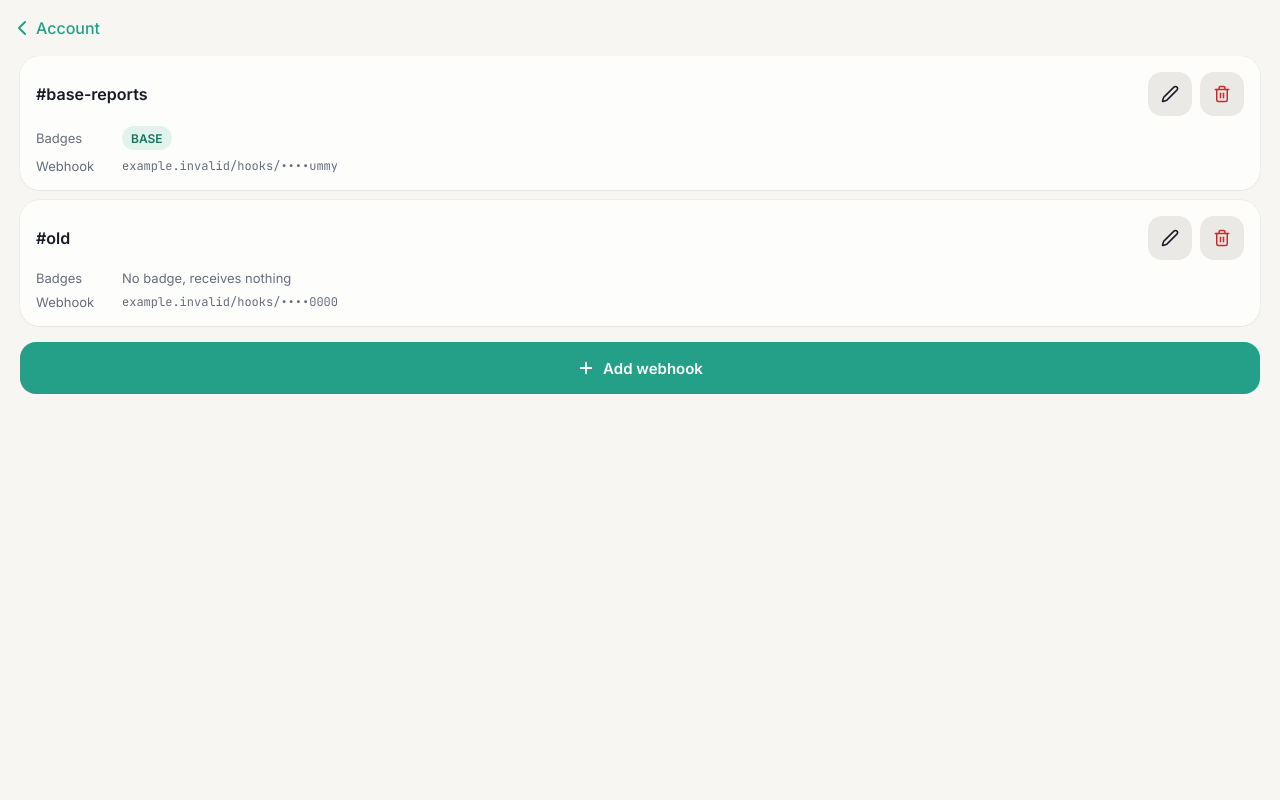
Test: the webhook sheet below md › adds with the address, BASE and a label, then shows only the masked address
Expected: the text "#base-reports" is shown, [36,84,148,104]
Click the button "Add webhook".
click(640, 368)  # box [20,342,1260,394]
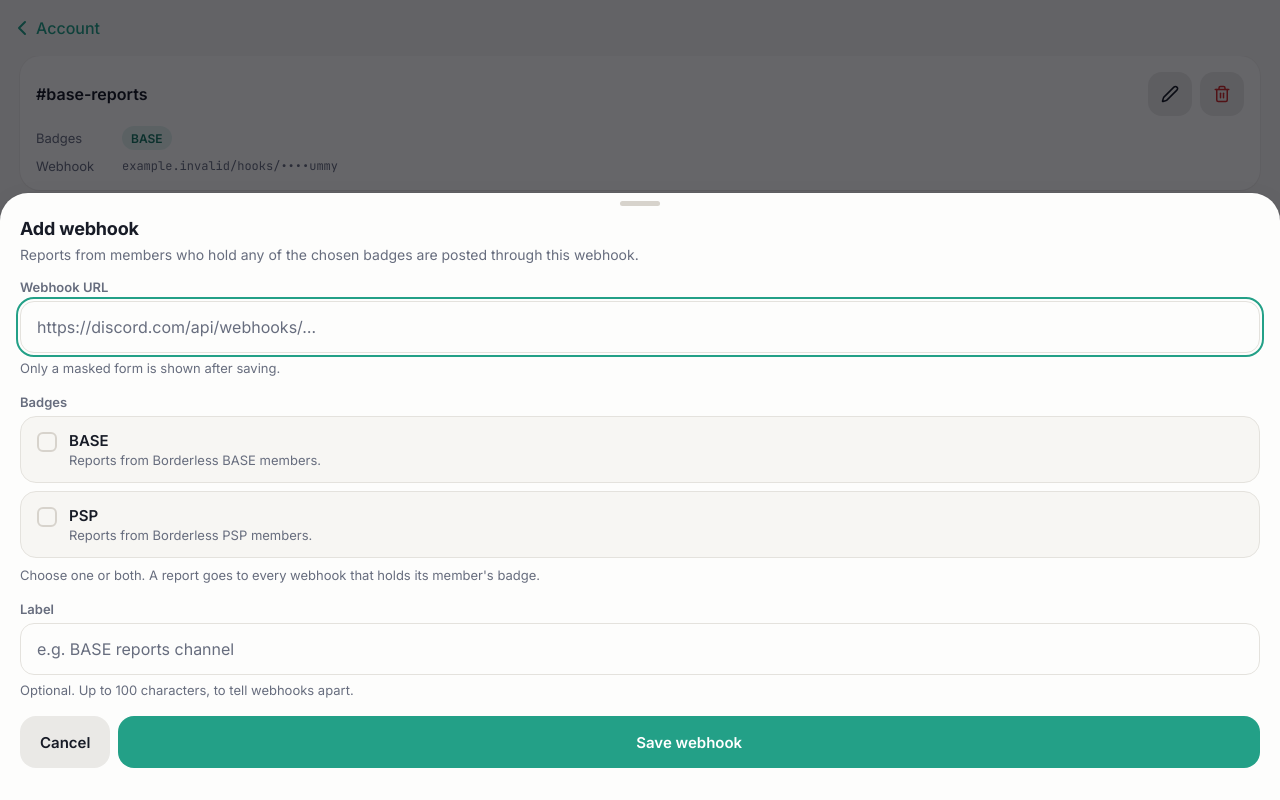
Type "https://discord.com/api/webhooks/000000000000000000/e2e-dummy-token-not-real" into the field labelled "Webhook URL".
click(640, 328); type("https://discord.com/api/webhooks/000000000000000000/e2e-dummy-token-not-real")  # box [20,302,1260,354]
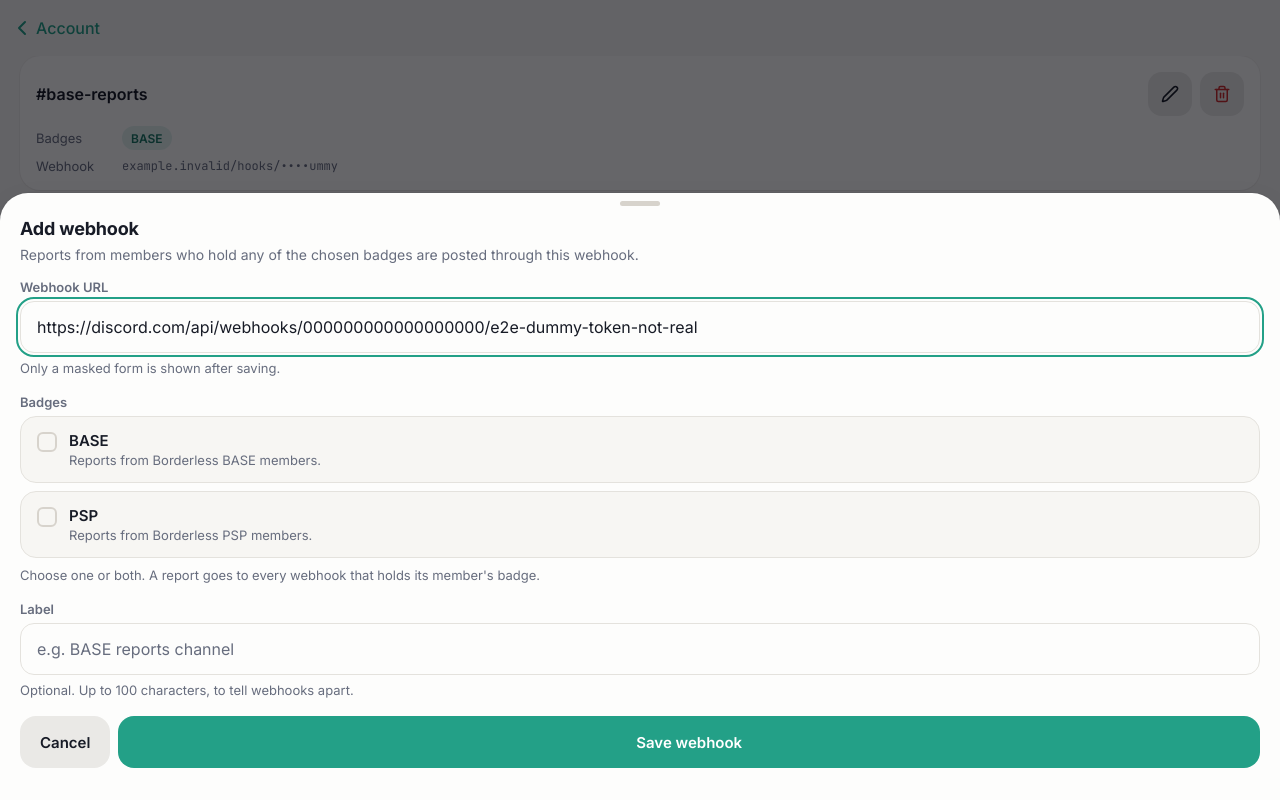
Click the checkbox labelled "BASE".
click(89, 441)  # box [20,416,1260,483]
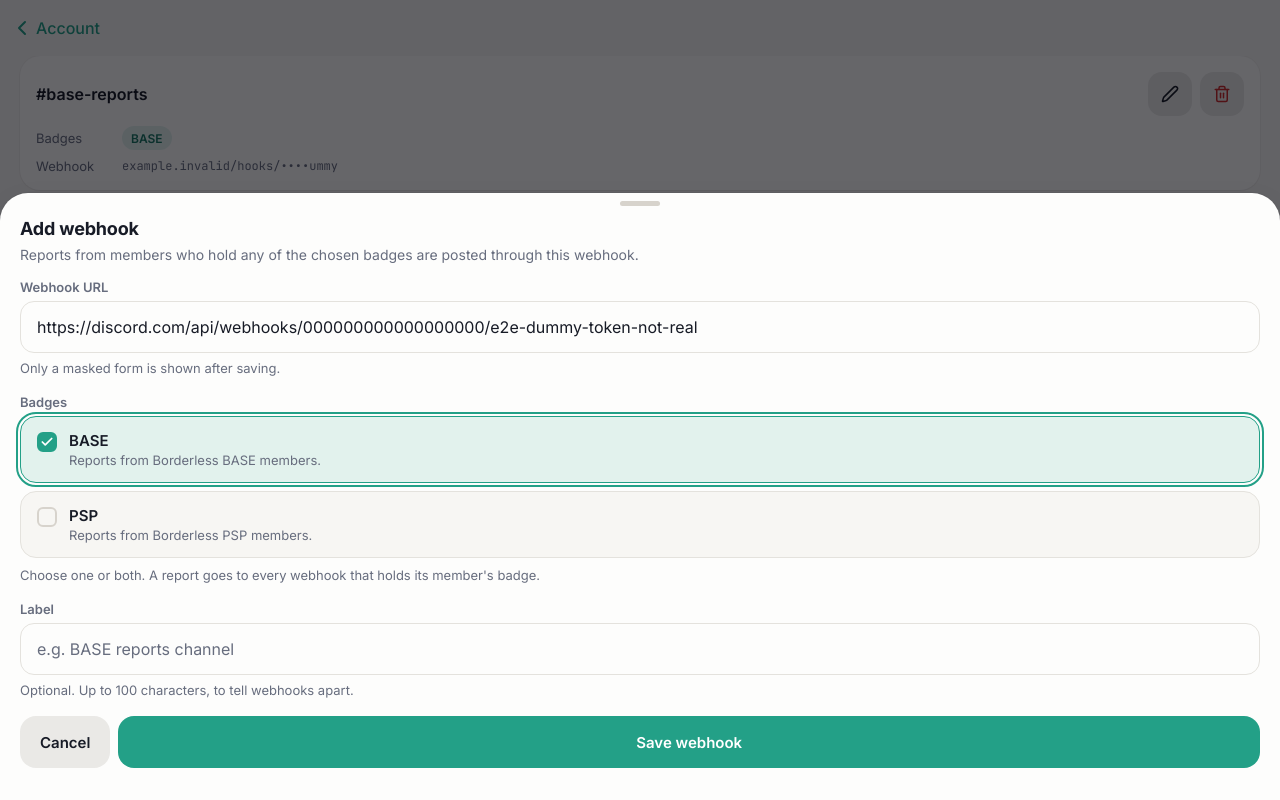
Result: the checkbox labelled "BASE" is checked at [20,416,1260,483]
Type "  phone hooks  " into the field labelled "Label".
click(640, 649); type("  phone hooks  ")  # box [20,623,1260,675]
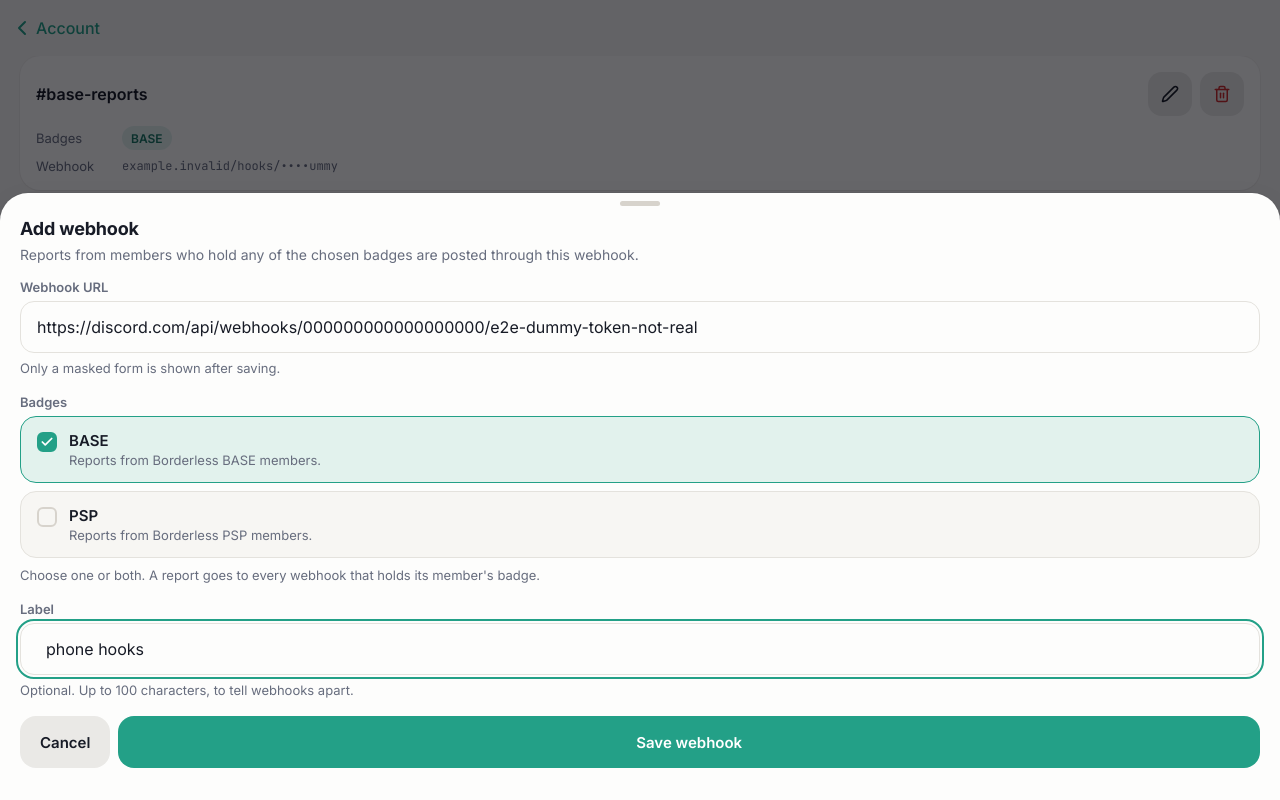
Click the button "Save webhook".
click(689, 742)  # box [118,716,1260,768]
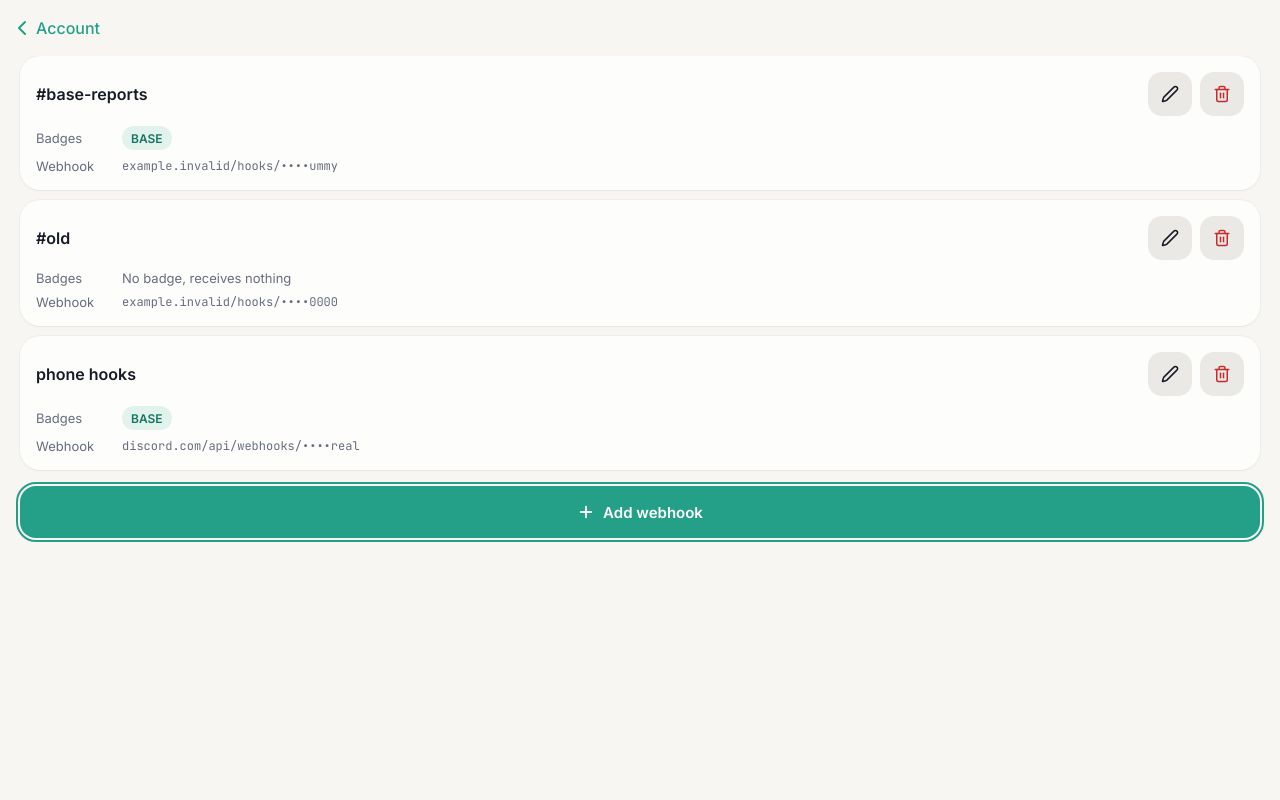
Expected: the text "e2e-dummy-token-not-real" is not shown
Result: the dialog is gone
Result: the text "phone hooks" is shown at [36,364,136,384]
